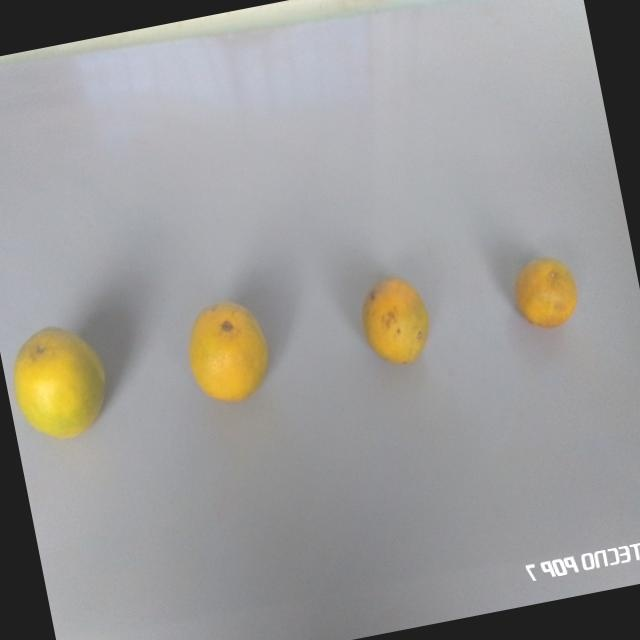agrume: (2, 307, 122, 453), (178, 290, 282, 414), (348, 262, 443, 378), (506, 250, 590, 338)
